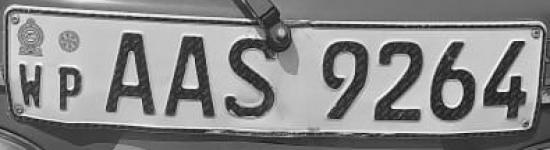2: (376, 33, 428, 128)
4: (482, 40, 530, 122)
6: (428, 37, 480, 124)
9: (314, 32, 374, 125)
A: (162, 31, 219, 122), (104, 29, 160, 118)
P: (54, 64, 85, 112)
S: (224, 31, 284, 126)
W: (18, 61, 47, 106)
